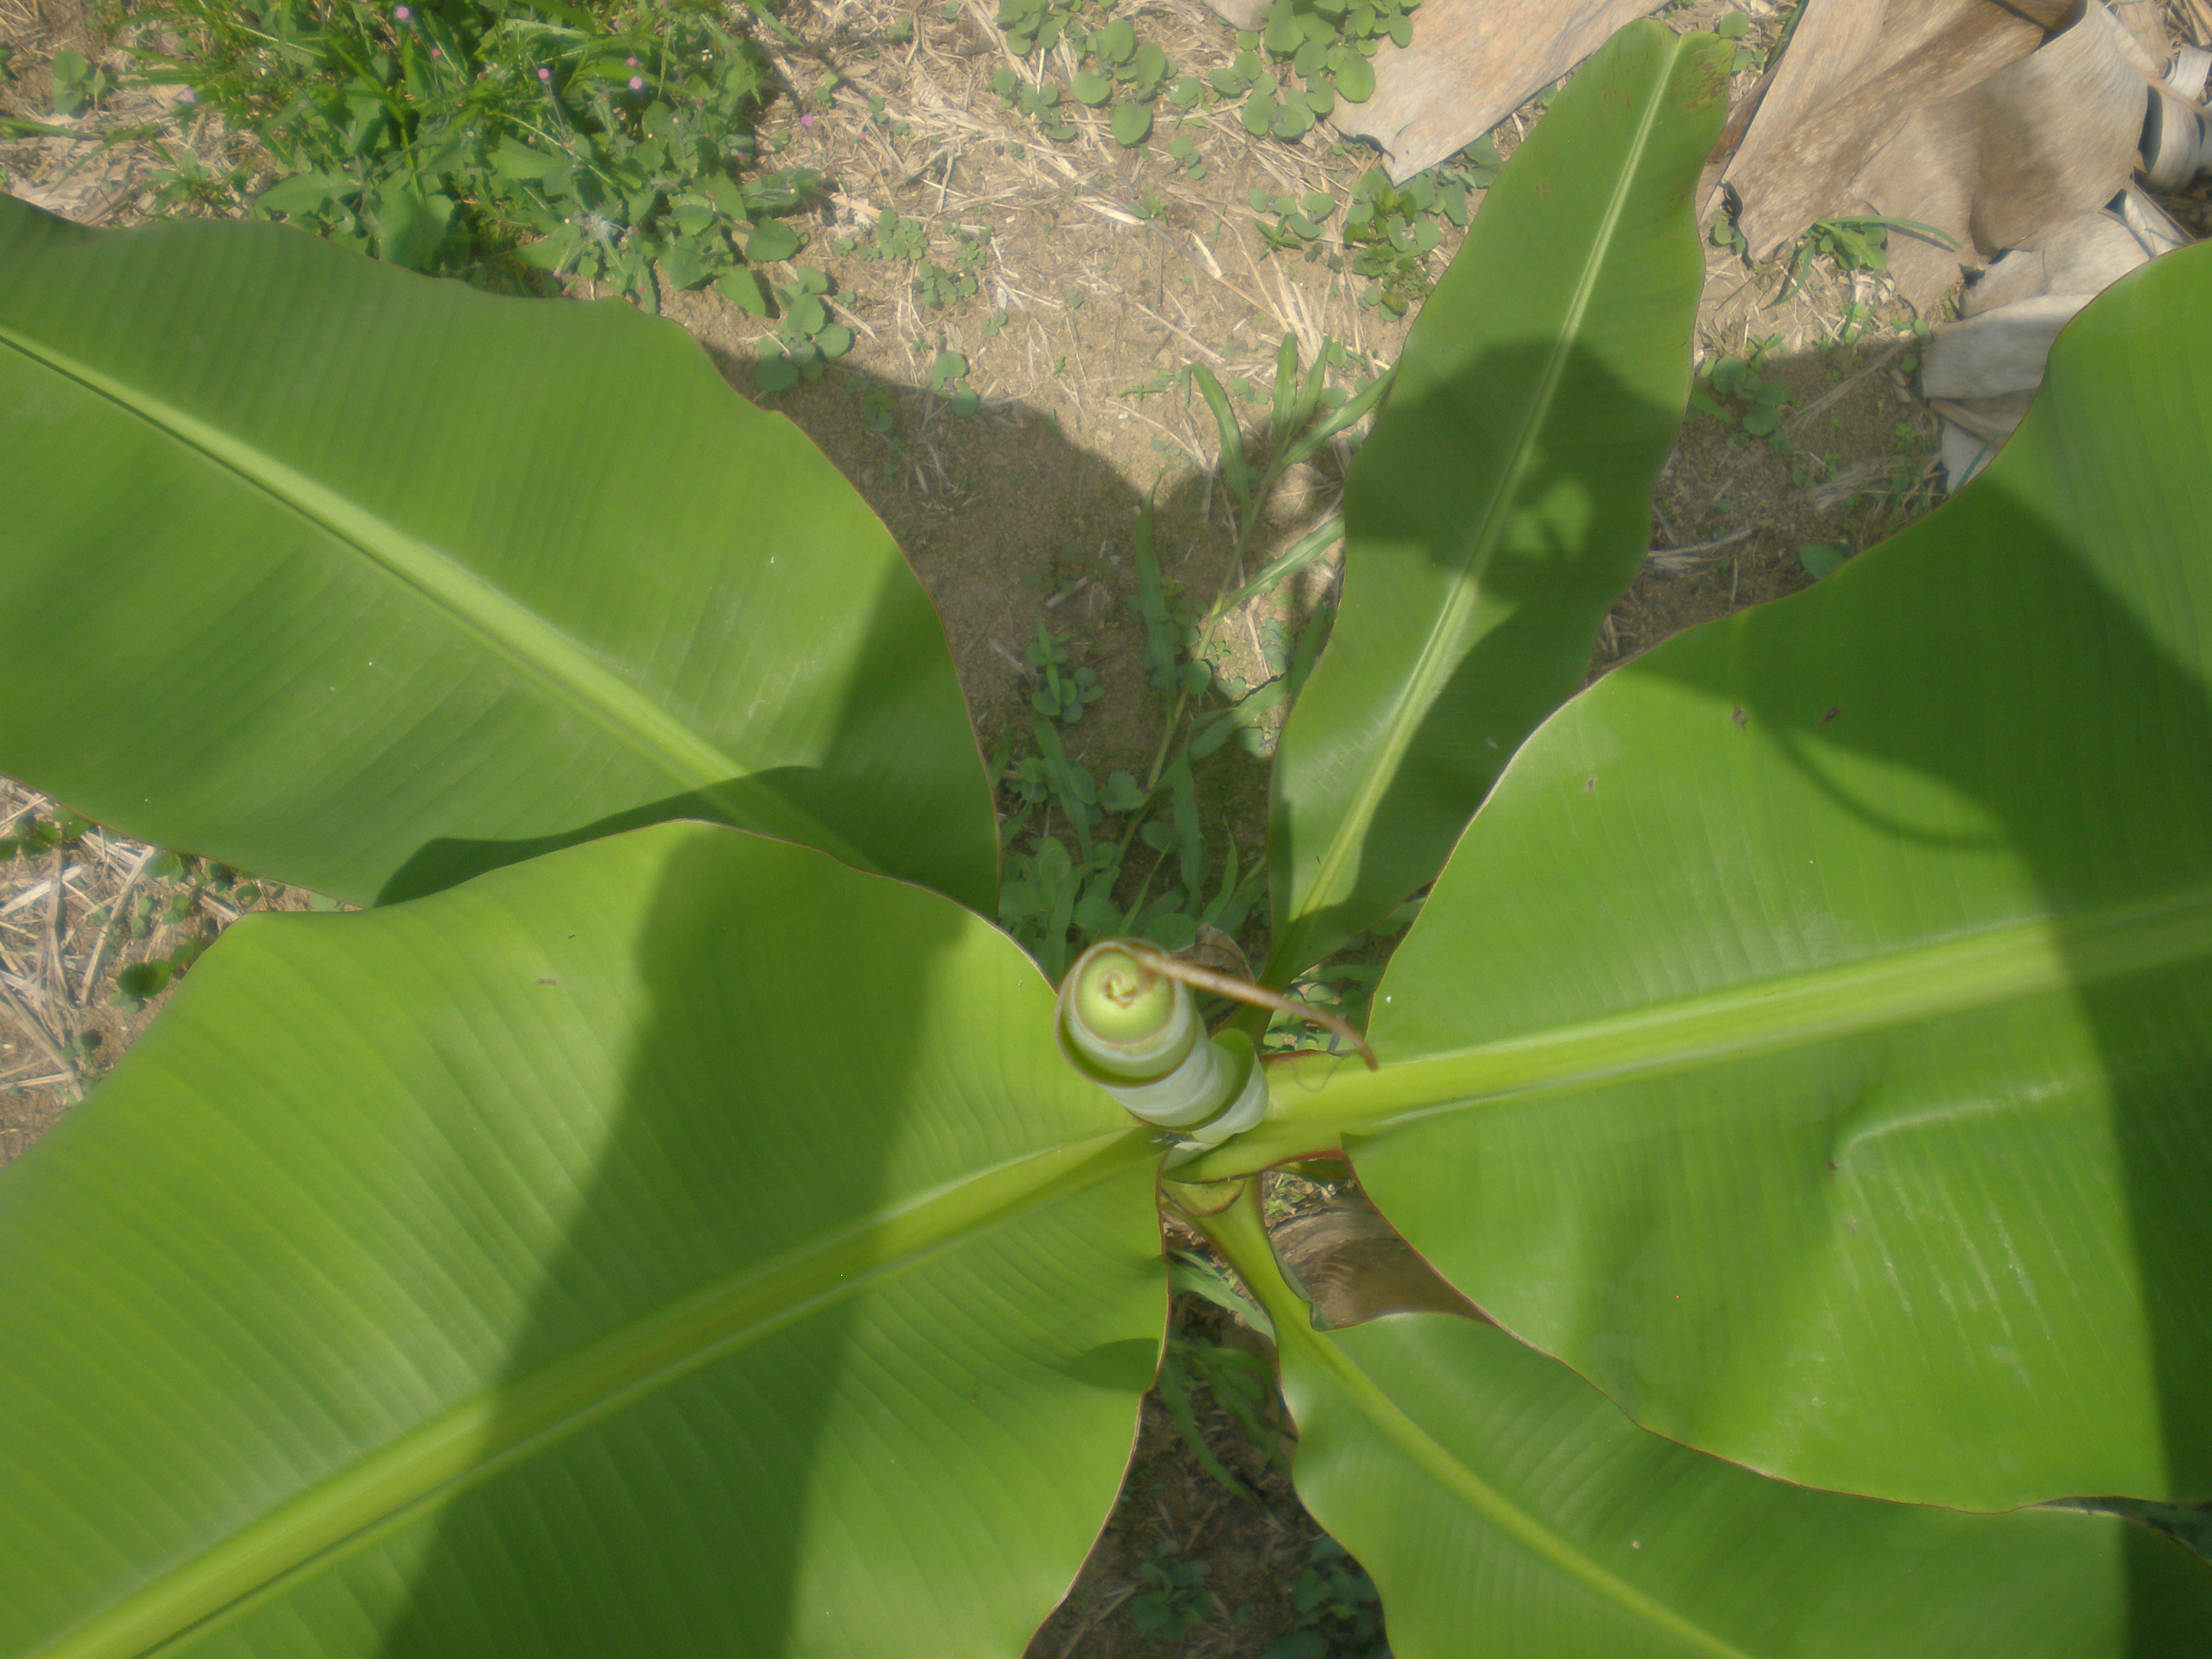candleleafs: (1045, 920, 1388, 1148)
